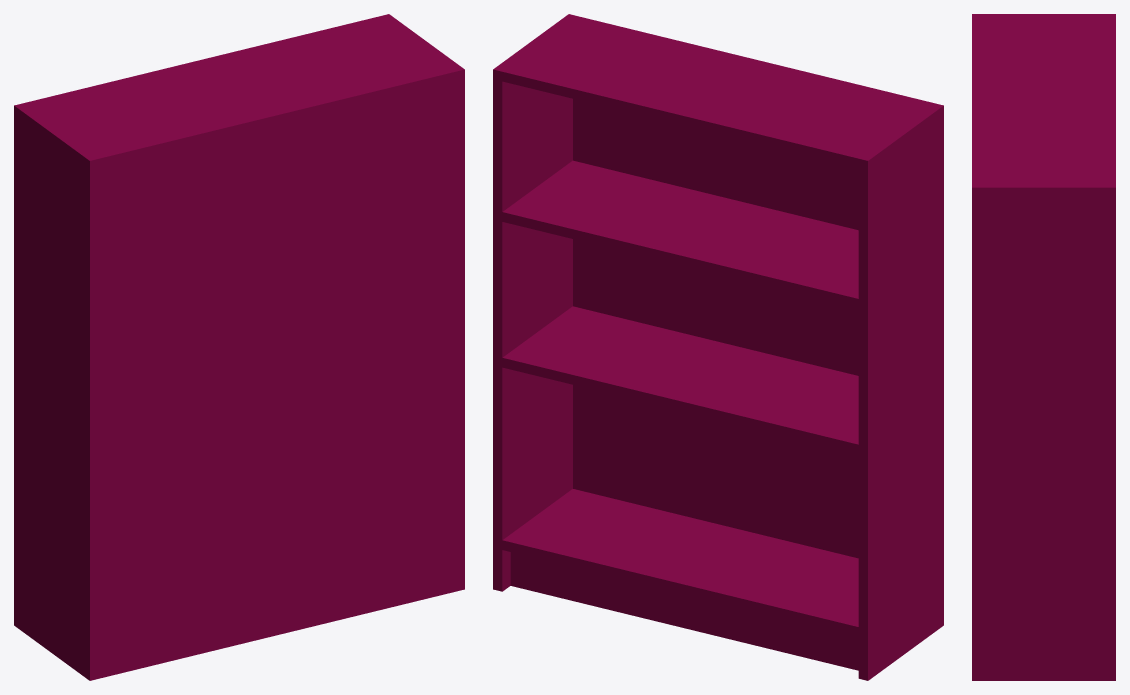
The model's file is wall_shelf.dae.
The picture shows the model from 3 angles, left to right: view 1: azimuth 30°, elevation 25°; view 2: azimuth 150°, elevation 25°; view 3: azimuth 270°, elevation 25°; orthographic projection. The views are drawn at different scales.
Parts seen in each view (by area): view 1: ikeashelf_007; view 2: ikeashelf_007; view 3: ikeashelf_007.
Boxes of the visible parts, left/top/right/bottom form: ikeashelf_007: left=14, top=14, right=464, bottom=680; ikeashelf_007: left=493, top=14, right=943, bottom=680; ikeashelf_007: left=972, top=14, right=1115, bottom=680.
Bounding box in the file's own units: 0.8 × 0.28 × 1.06.
